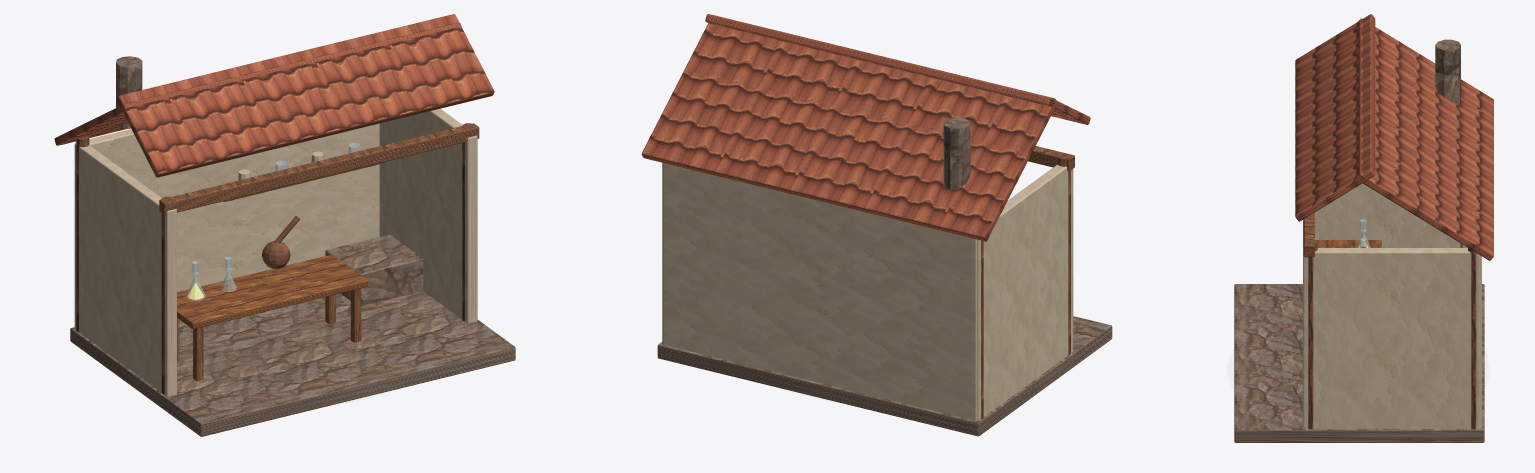
The model's file is laboratory.glb.
3 views of the same model, side by side, from view 1: azimuth 30°, elevation 25°; view 2: azimuth 150°, elevation 25°; view 3: azimuth 270°, elevation 25° (orthographic). The views are drawn at different scales.
Parts seen in each view (by area): view 1: floor, roof, backWall, sideWall, sideWall.001, table, beamTop, hearth, roof.001, chimney, cornerPost, cornerPostB (+4 smaller); view 2: backWall, roof.001, sideWall, floor, roof, chimney, cornerPost, beamTop; view 3: sideWall.001, roof.001, floor, roof, sideWall, chimney, cornerPost.001, cornerPostB.001, beamTop, table, backWall.
Part boxes in pixels (x1=…): floor: x1=70, y1=291, x2=515, y2=436; roof: x1=117, y1=14, x2=494, y2=177; backWall: x1=75, y1=123, x2=379, y2=292; sideWall: x1=74, y1=143, x2=176, y2=396; sideWall.001: x1=379, y1=108, x2=477, y2=323; table: x1=177, y1=254, x2=367, y2=329; beamTop: x1=159, y1=123, x2=479, y2=215; hearth: x1=325, y1=234, x2=423, y2=305; roof.001: x1=54, y1=22, x2=461, y2=145; chimney: x1=116, y1=56, x2=142, y2=128; cornerPost: x1=161, y1=196, x2=174, y2=394; cornerPostB: x1=76, y1=136, x2=89, y2=331; backWall: x1=662, y1=163, x2=977, y2=420; roof.001: x1=641, y1=23, x2=1057, y2=241; sideWall: x1=977, y1=164, x2=1073, y2=420; floor: x1=657, y1=316, x2=1112, y2=436; roof: x1=705, y1=14, x2=1090, y2=124; chimney: x1=943, y1=117, x2=970, y2=189; cornerPost: x1=1057, y1=153, x2=1070, y2=355; beamTop: x1=1028, y1=146, x2=1074, y2=171; sideWall.001: x1=1303, y1=248, x2=1480, y2=429; roof.001: x1=1358, y1=18, x2=1493, y2=260; floor: x1=1234, y1=284, x2=1484, y2=442; roof: x1=1295, y1=14, x2=1375, y2=221; sideWall: x1=1303, y1=183, x2=1460, y2=248; chimney: x1=1435, y1=39, x2=1460, y2=103; cornerPost.001: x1=1305, y1=240, x2=1317, y2=429; cornerPostB.001: x1=1468, y1=248, x2=1476, y2=429; beamTop: x1=1303, y1=212, x2=1314, y2=257; table: x1=1315, y1=240, x2=1381, y2=247; backWall: x1=1480, y1=256, x2=1481, y2=428.
Size of the model in its own units: 5.3 by 3.8 by 4.
Materials: 14 (11 with a texture image).
